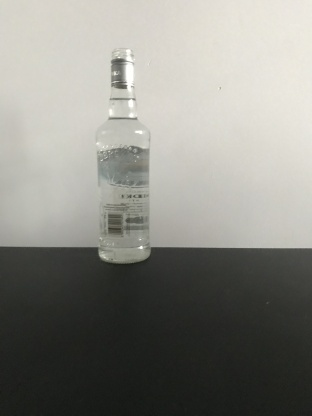nakretka: (109, 46, 135, 88)
